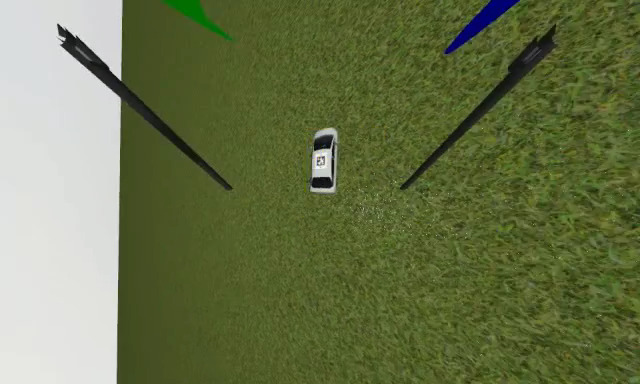Car: (311, 125, 338, 193)
Landing Pad: (315, 152, 328, 171)
